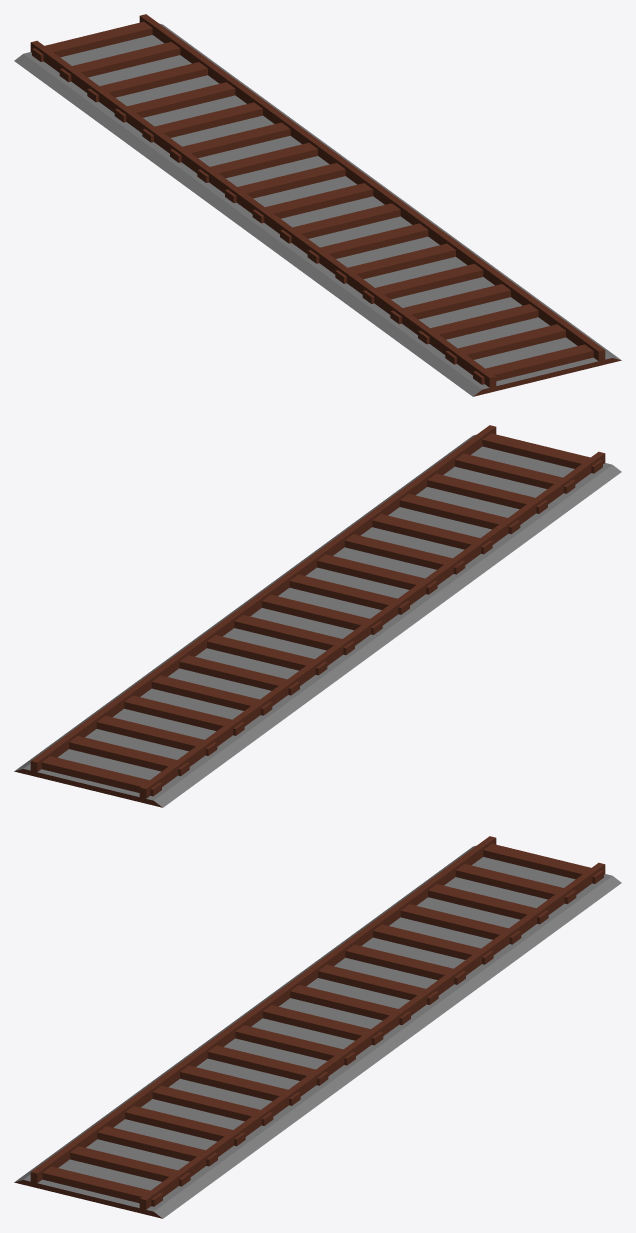
Rendered from SM_rails_01.glb.
3 views of the same model, one above another, from view 1: azimuth 30°, elevation 25°; view 2: azimuth 150°, elevation 25°; view 3: azimuth 330°, elevation 25° (orthographic).
Parts seen in each view (by area): view 1: SM_rails_01; view 2: SM_rails_01; view 3: SM_rails_01.
Part boxes in pixels (bbox=[...]): SM_rails_01: bbox=[14, 14, 621, 396]; SM_rails_01: bbox=[14, 425, 621, 807]; SM_rails_01: bbox=[14, 836, 621, 1218].
Size of the model in its own units: 1.5 by 0.1401 by 8.
1 material, 1 textured.
